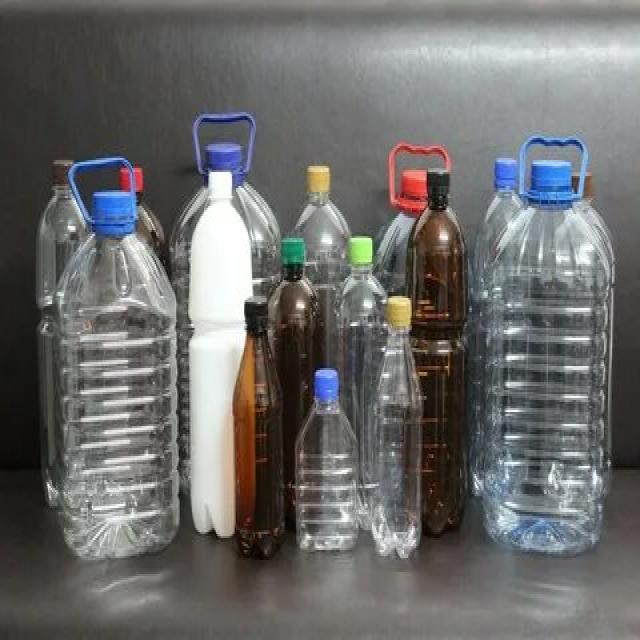blue: (487, 202, 609, 552)
brown: (410, 195, 467, 535), (233, 328, 284, 562), (269, 268, 315, 405)
